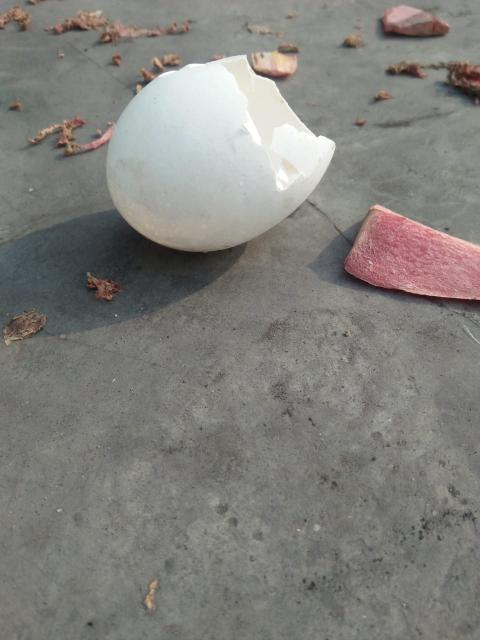Roto: (104, 53, 336, 254)
